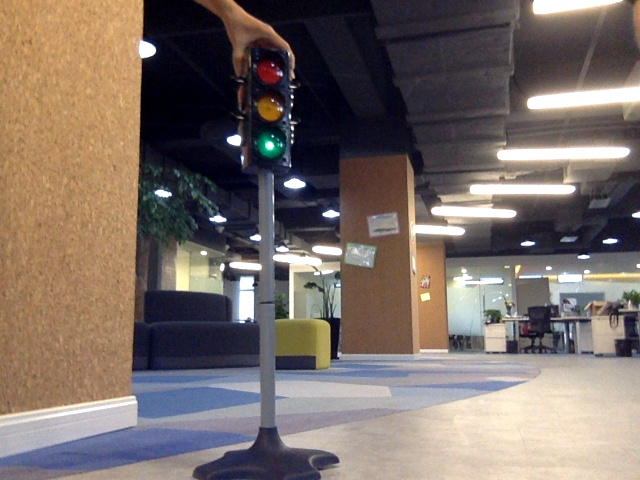green: (249, 56, 286, 160)
